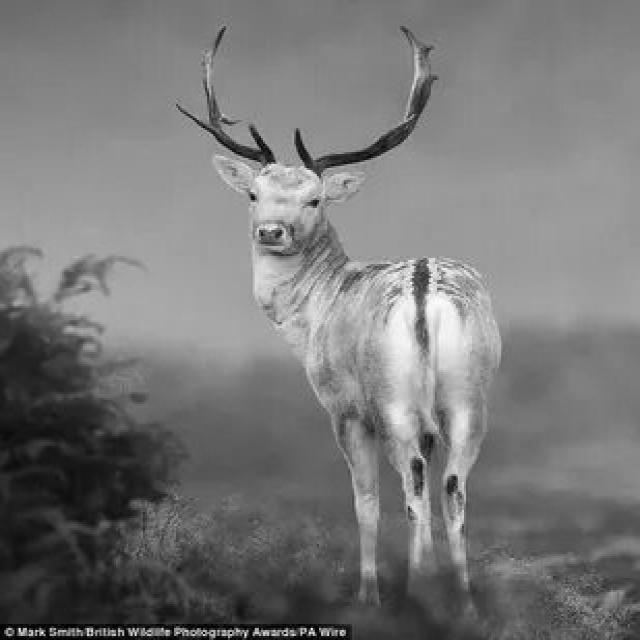Deer: (145, 42, 620, 602)
